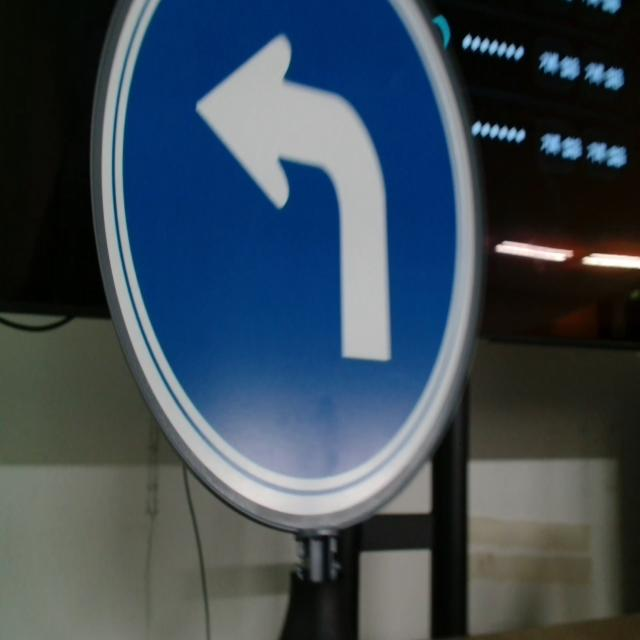left_direction: (90, 0, 485, 536)
